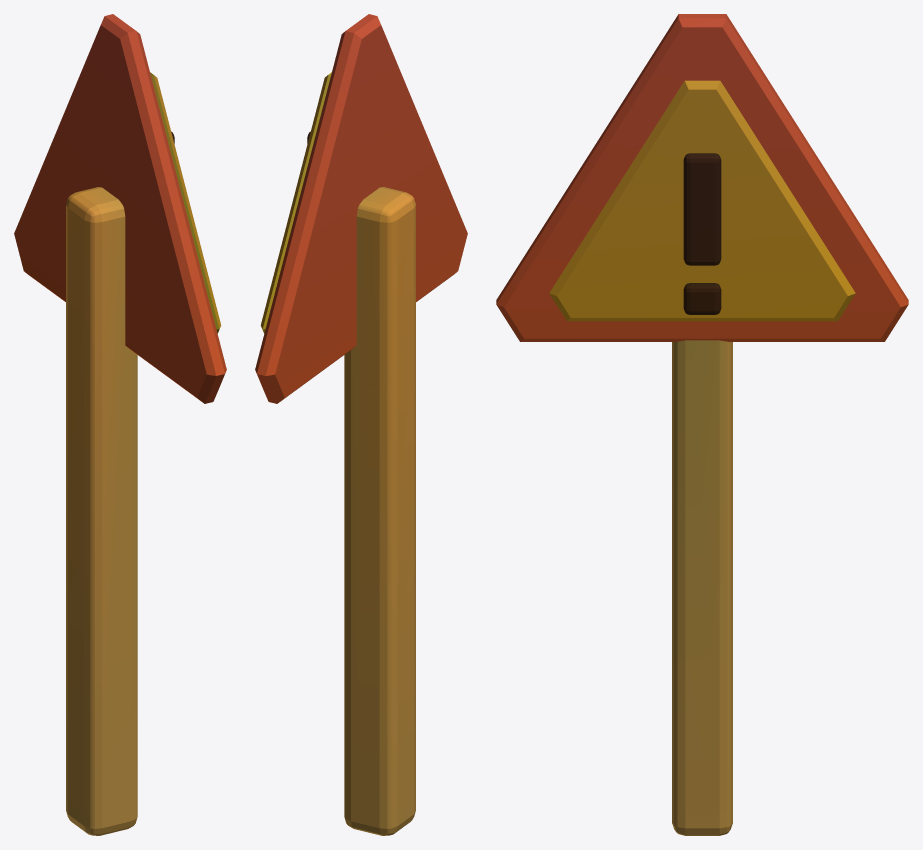
File: Prop_WarningSign.glb
3 renders of one model, left to right at view 1: azimuth 30°, elevation 25°; view 2: azimuth 150°, elevation 25°; view 3: azimuth 270°, elevation 25°, orthographic. The views are drawn at different scales.
Visible parts, largest first — view 1: Prop_WarningSign; view 2: Prop_WarningSign; view 3: Prop_WarningSign.
Boxes of the visible parts, box(x1,y1,x2,y2) form: Prop_WarningSign: box(14, 14, 226, 835); Prop_WarningSign: box(255, 14, 467, 835); Prop_WarningSign: box(496, 14, 908, 835).
Bounding box in the file's own units: 0.32 × 2.66 × 1.21.
